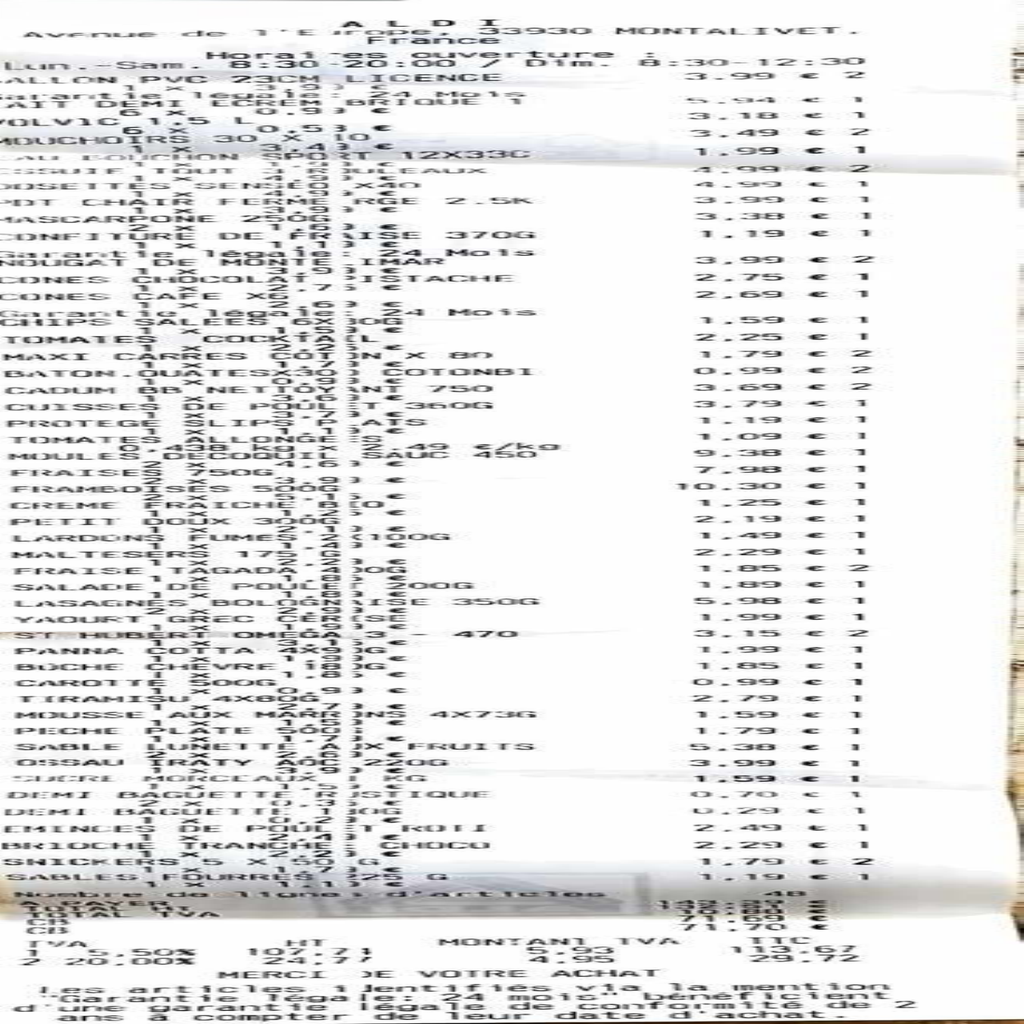recipt: (2, 6, 1018, 1022)
